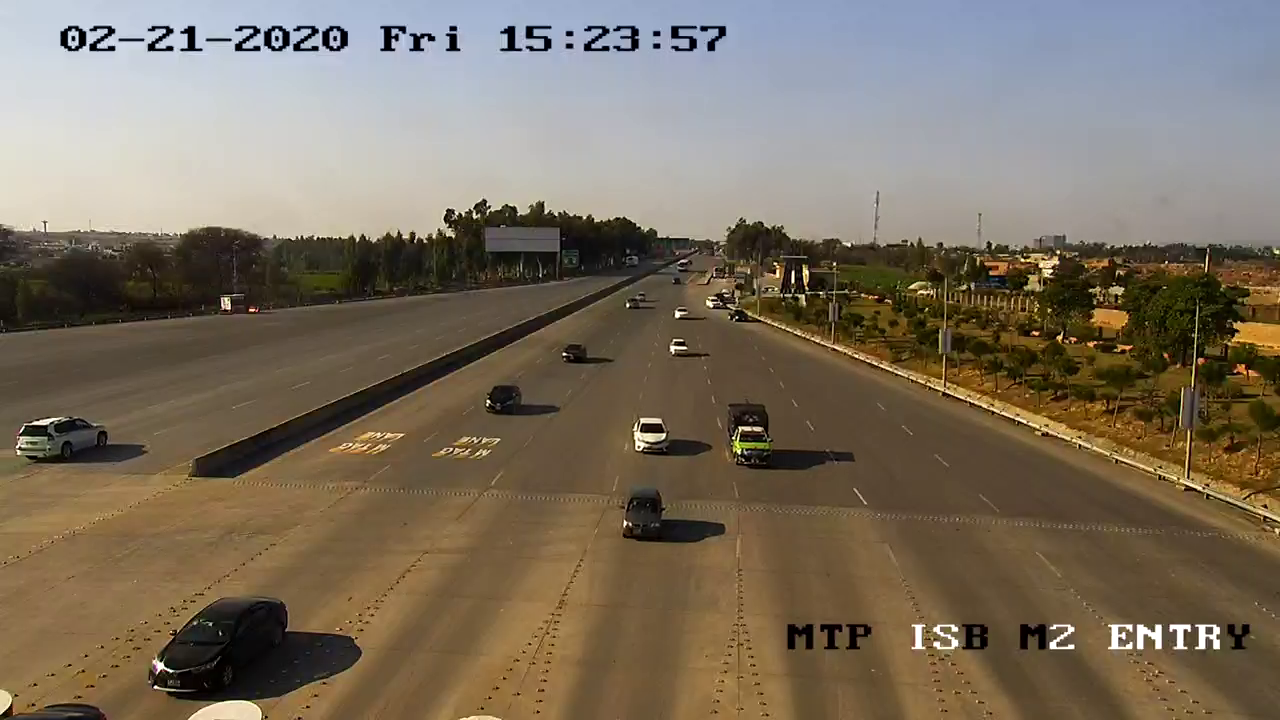f1: (142, 584, 295, 702), (719, 397, 787, 479), (614, 485, 676, 548), (628, 409, 675, 460)
